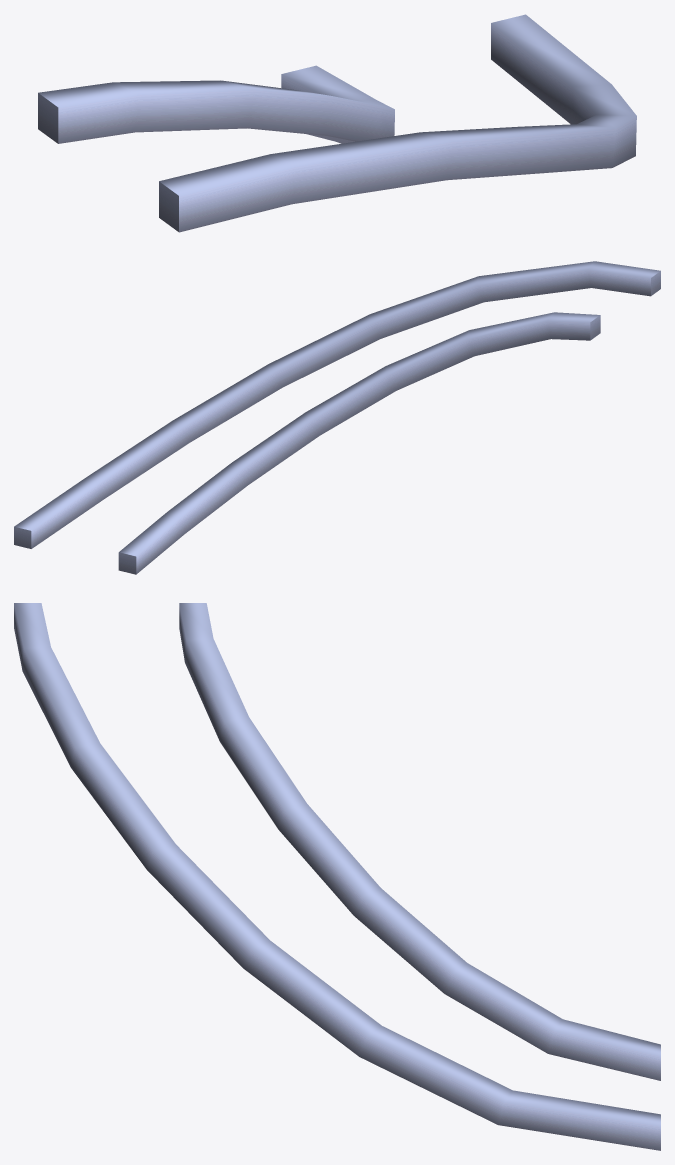
The model's file is kenney-train-railroad-rail-corner-small-ramp.glb.
3 views of the same model, one above another, from view 1: azimuth 30°, elevation 25°; view 2: azimuth 150°, elevation 25°; view 3: azimuth 270°, elevation 25° (orthographic). The views are drawn at different scales.
Parts seen in each view (by area): view 1: railroad-rail-corner-small-ramp; view 2: railroad-rail-corner-small-ramp; view 3: railroad-rail-corner-small-ramp.
Part boxes in pixels (x1,y1,x2,y2): railroad-rail-corner-small-ramp: (38,14,636,232); railroad-rail-corner-small-ramp: (14,261,660,574); railroad-rail-corner-small-ramp: (14,603,660,1150).
Size of the model in its own units: 2.35 by 1.1 by 2.35.
1 material, 1 textured.
